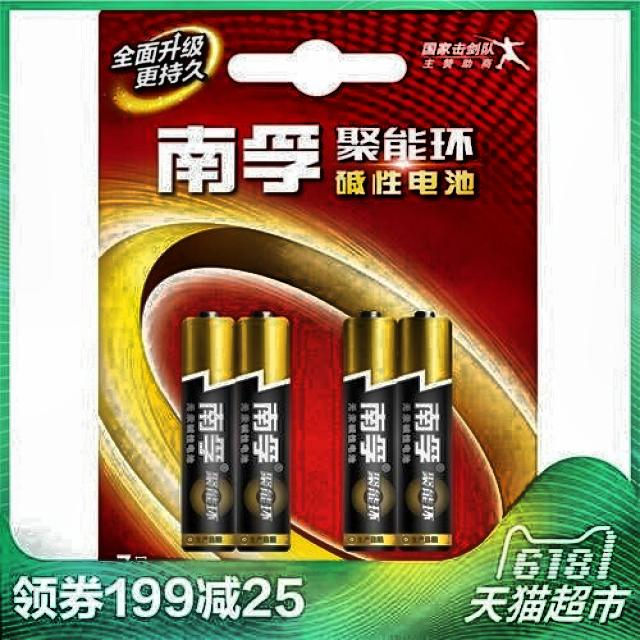Non-Valuable Waste - Batteries: (344, 311, 398, 550), (181, 311, 235, 550), (398, 311, 452, 549), (236, 316, 290, 550)
